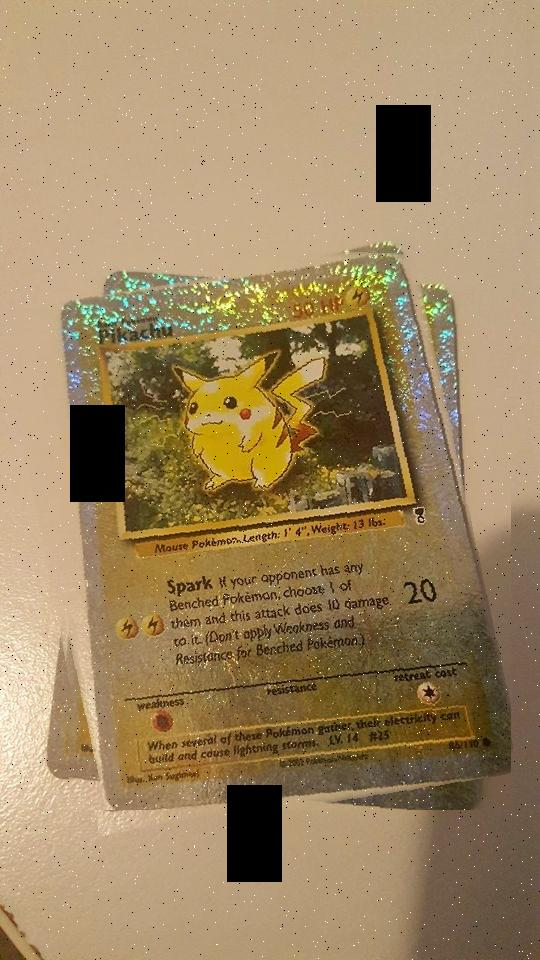card: (59, 254, 511, 810)
